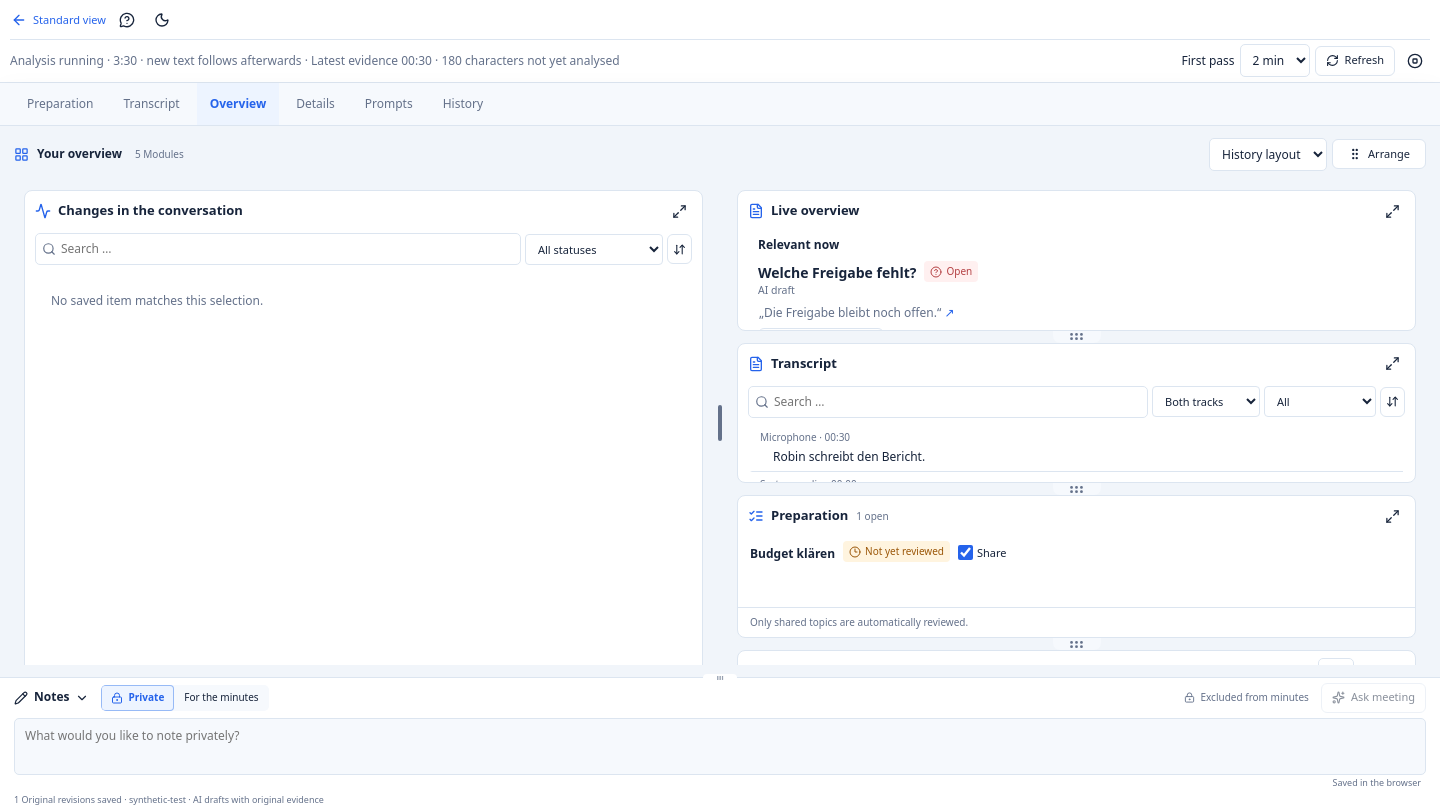
Test: keeps a shortened clock due as a time in the task row (en)
Step 1. Click the tab "Details" → (315, 104), box 283,83 -> 348,125
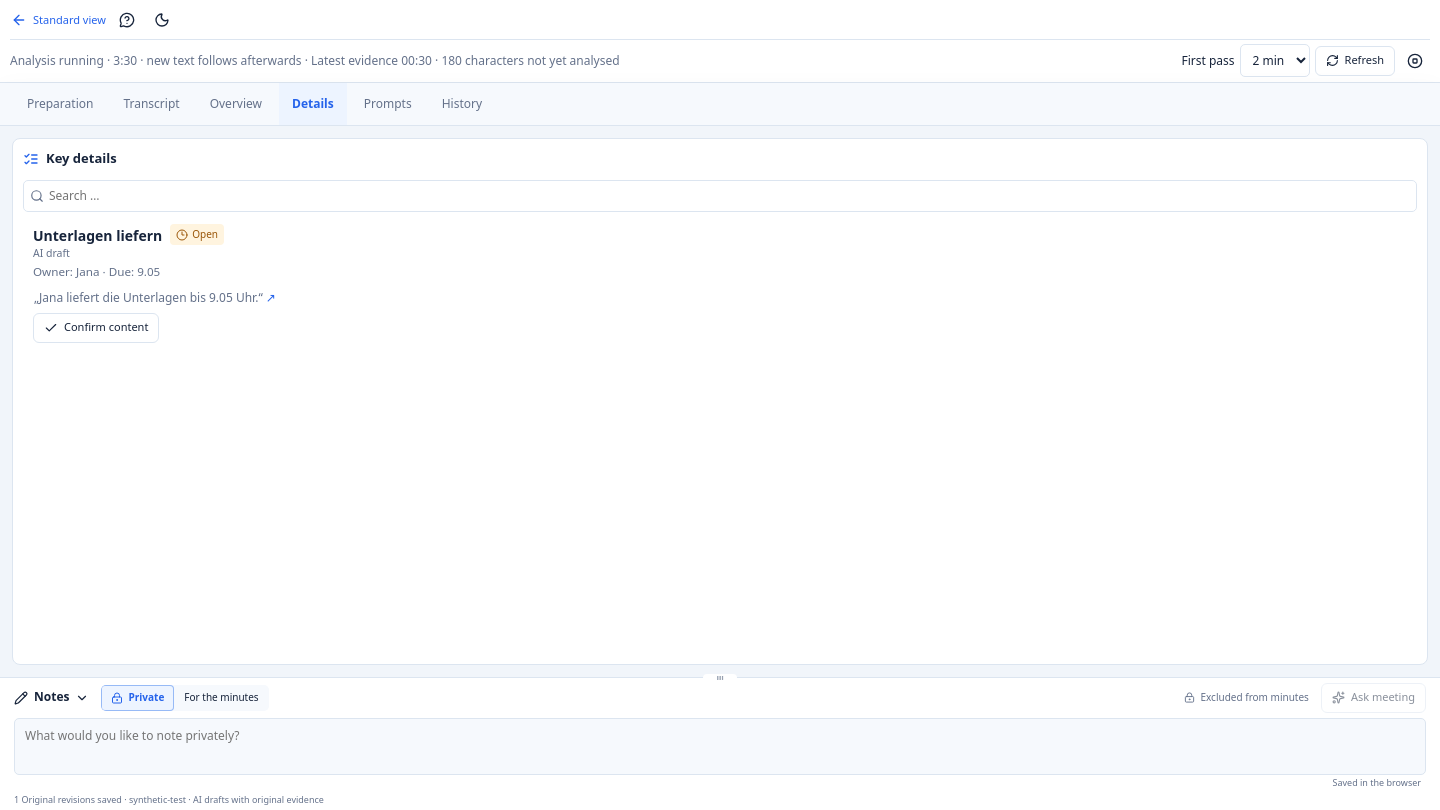
Result: the text "Unterlagen liefern" is shown at 33,224 -> 162,246
Result: the text "Owner: Jana · Due: 9.05" is shown at 33,264 -> 160,279
